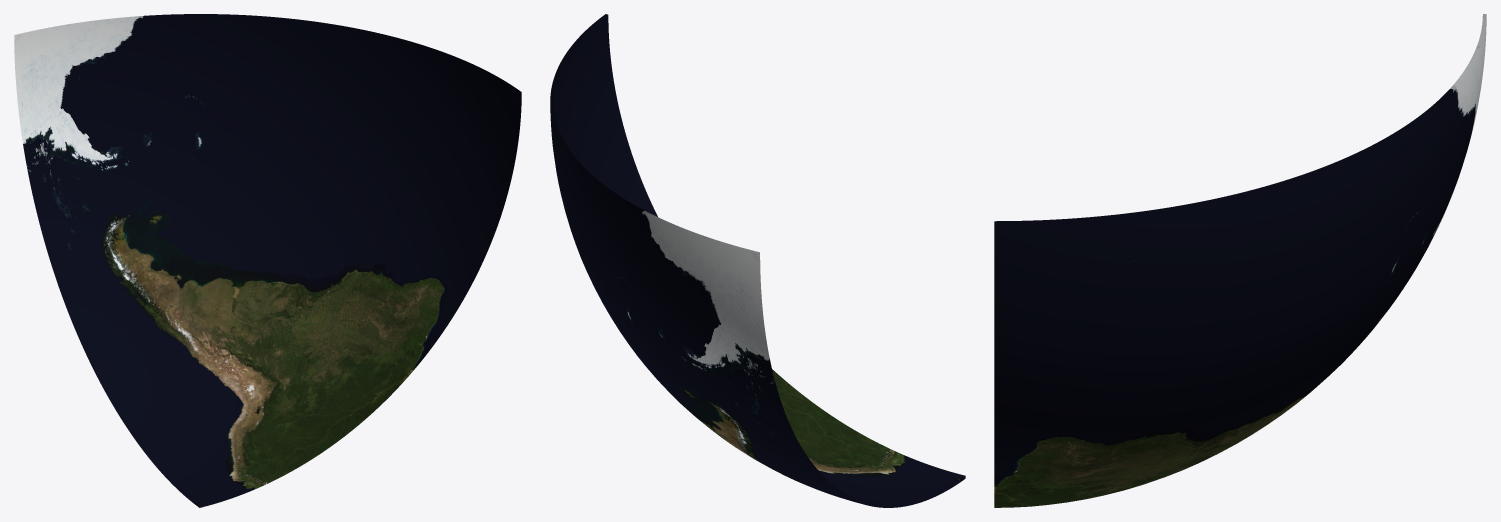
3 views of the same model, side by side, from view 1: azimuth 30°, elevation 25°; view 2: azimuth 150°, elevation 25°; view 3: azimuth 270°, elevation 25° (orthographic). The views are drawn at different scales.
Visible parts, largest first — view 1: DefaultName.008, DefaultName.011, DefaultName.005, DefaultName.002; view 2: DefaultName.002, DefaultName.005, DefaultName.011, DefaultName.008; view 3: DefaultName.008, DefaultName.005, DefaultName.011, DefaultName.002.
Boxes of the visible parts, box(x1,y1,x2,y2) form: DefaultName.008: box(230, 19, 521, 353); DefaultName.011: box(69, 204, 427, 507); DefaultName.005: box(14, 14, 296, 203); DefaultName.002: box(14, 35, 229, 313); DefaultName.002: box(639, 252, 820, 475); DefaultName.005: box(564, 146, 759, 353); DefaultName.011: box(637, 354, 965, 507); DefaultName.008: box(550, 14, 657, 355); DefaultName.008: box(994, 161, 1341, 478); DefaultName.005: box(1339, 14, 1486, 342); DefaultName.011: box(994, 343, 1341, 507); DefaultName.002: box(1342, 26, 1486, 363).
Size of the model in its own units: 63781 by 63781 by 63568.
Materials: 4 (4 with a texture image).
